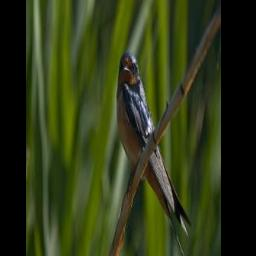Swallow: (117, 49, 194, 256)
